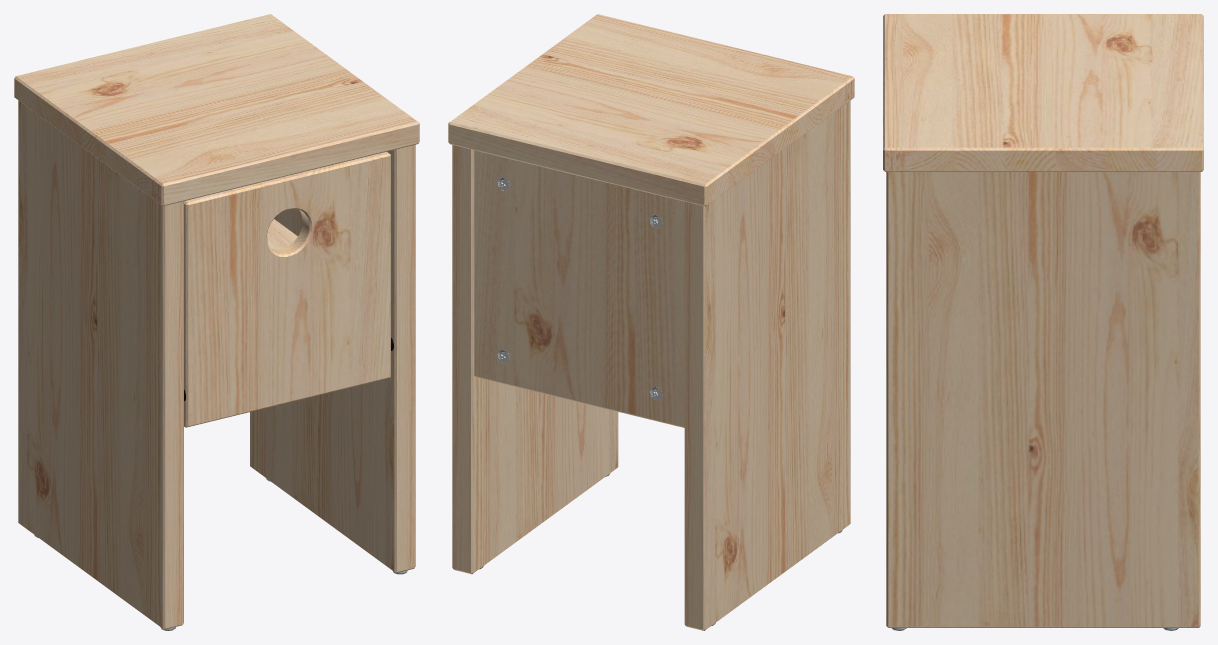
3 renders of one model, left to right at view 1: azimuth 30°, elevation 25°; view 2: azimuth 150°, elevation 25°; view 3: azimuth 270°, elevation 25°, orthographic. The views are drawn at different scales.
Visible parts, largest first — view 1: ASY_ART_60619942_S01_NV01; view 2: ASY_ART_60619942_S01_NV01; view 3: ASY_ART_60619942_S01_NV01.
Boxes of the visible parts, bbox=[...] form: ASY_ART_60619942_S01_NV01: bbox=[14, 14, 419, 630]; ASY_ART_60619942_S01_NV01: bbox=[448, 14, 854, 630]; ASY_ART_60619942_S01_NV01: bbox=[883, 14, 1203, 630].
Size of the model in its own units: 0.302 by 0.505 by 0.302.
Materials: 1 (1 with a texture image).
